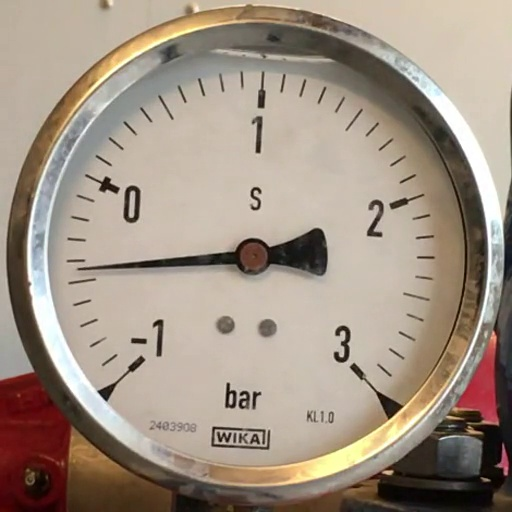base: (236, 238, 270, 276)
circle_plate: (48, 57, 466, 467)
maximum: (350, 362, 366, 380)
minimum: (128, 355, 146, 373)
number: (130, 318, 165, 358), (122, 184, 142, 225), (332, 324, 352, 364), (366, 198, 384, 240), (250, 114, 264, 156)
tip: (75, 266, 82, 272)
